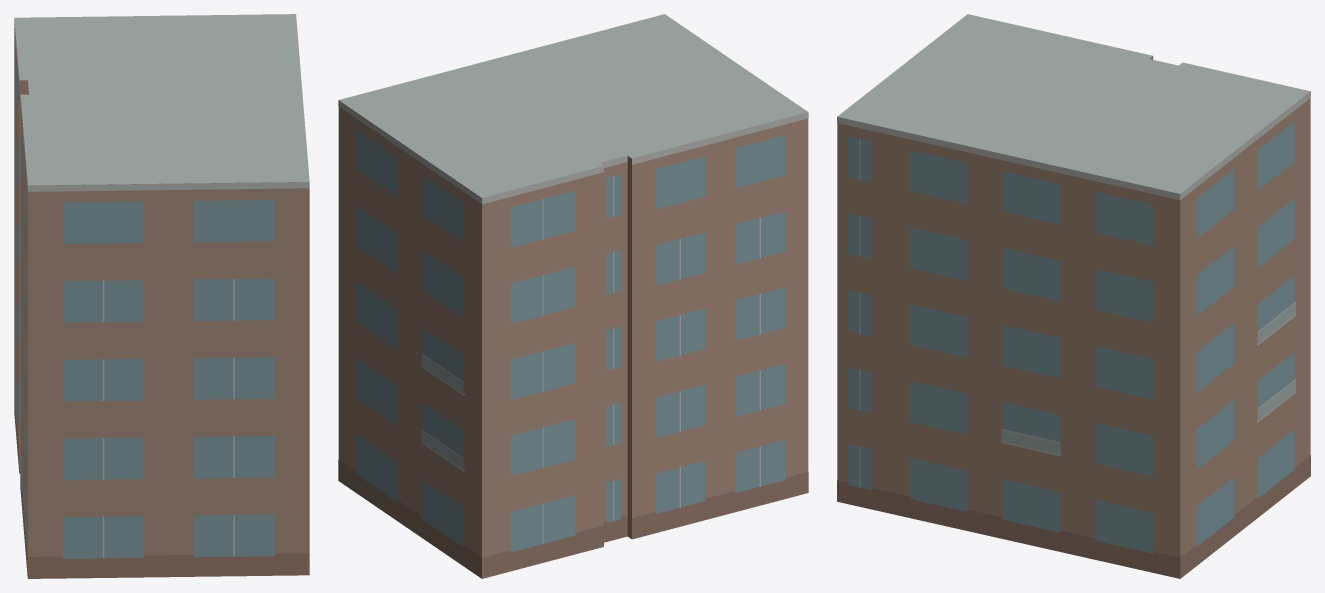
File: survey-upis-32720898.glb
The picture shows the model from 3 angles, left to right: view 1: azimuth 30°, elevation 25°; view 2: azimuth 150°, elevation 25°; view 3: azimuth 270°, elevation 25°; orthographic projection. The views are drawn at different scales.
Visible parts, largest first — view 1: survey-upis-32720898.tmp; view 2: survey-upis-32720898.tmp; view 3: survey-upis-32720898.tmp.
Part boxes in pixels (box(x1,y1,x2,y2)): survey-upis-32720898.tmp: box(14, 14, 309, 578); survey-upis-32720898.tmp: box(338, 14, 808, 578); survey-upis-32720898.tmp: box(837, 14, 1310, 578).
Bounding box in the file's own units: 14.9 × 14.85 × 16.57.
